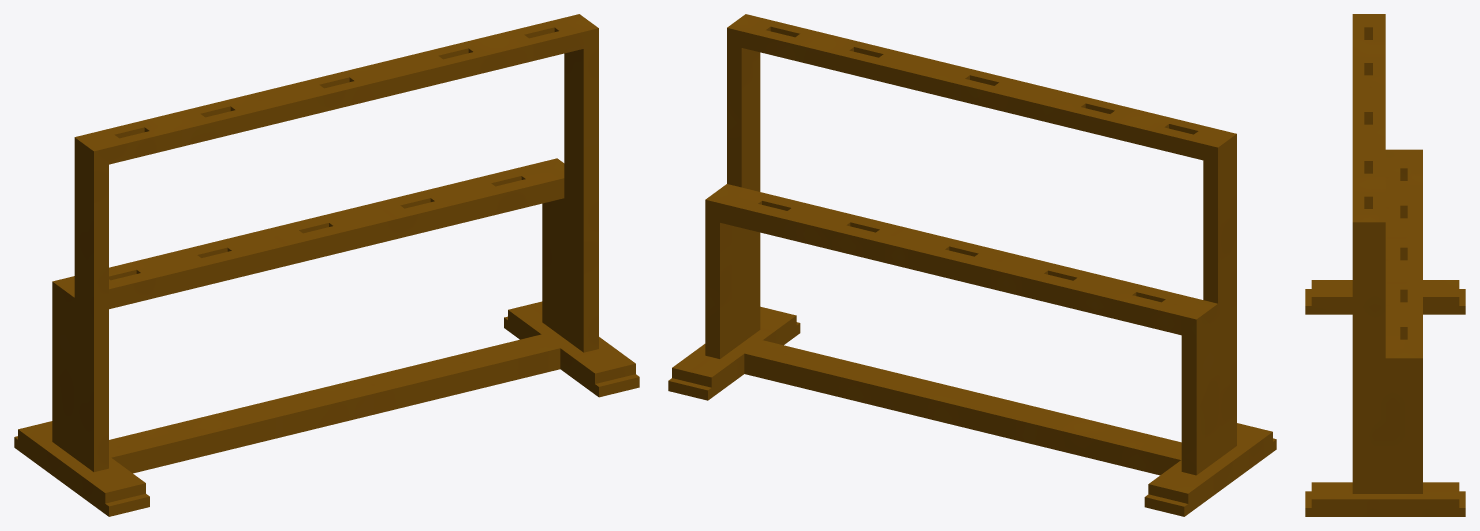
File: Weapon_Rack.fbx
The picture shows the model from 3 angles, left to right: view 1: azimuth 30°, elevation 25°; view 2: azimuth 150°, elevation 25°; view 3: azimuth 270°, elevation 25°; orthographic projection. The views are drawn at different scales.
Visible parts, largest first — view 1: Weapon Rack; view 2: Weapon Rack; view 3: Weapon Rack.
Part boxes in pixels (x1,y1,x2,y2): Weapon Rack: [14, 14, 639, 516]; Weapon Rack: [668, 14, 1276, 516]; Weapon Rack: [1305, 14, 1465, 516].
Bounding box in the file's own units: 156 × 95.79 × 48.16.
